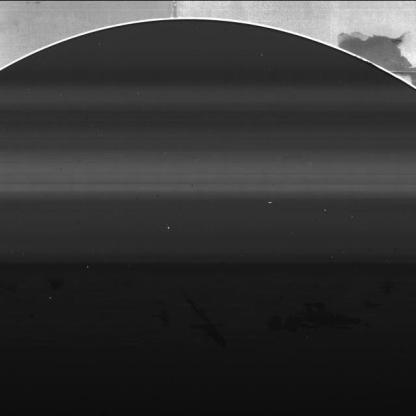crescent_gap: (0, 11, 416, 112)
